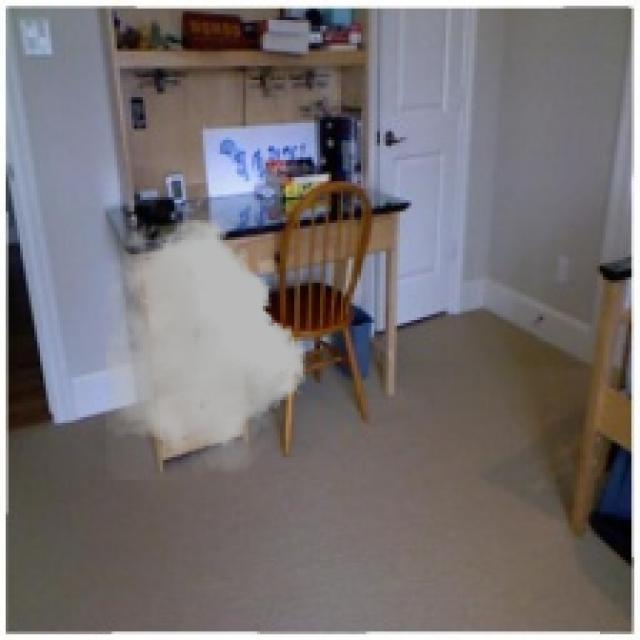Smoke: (106, 215, 306, 480)
